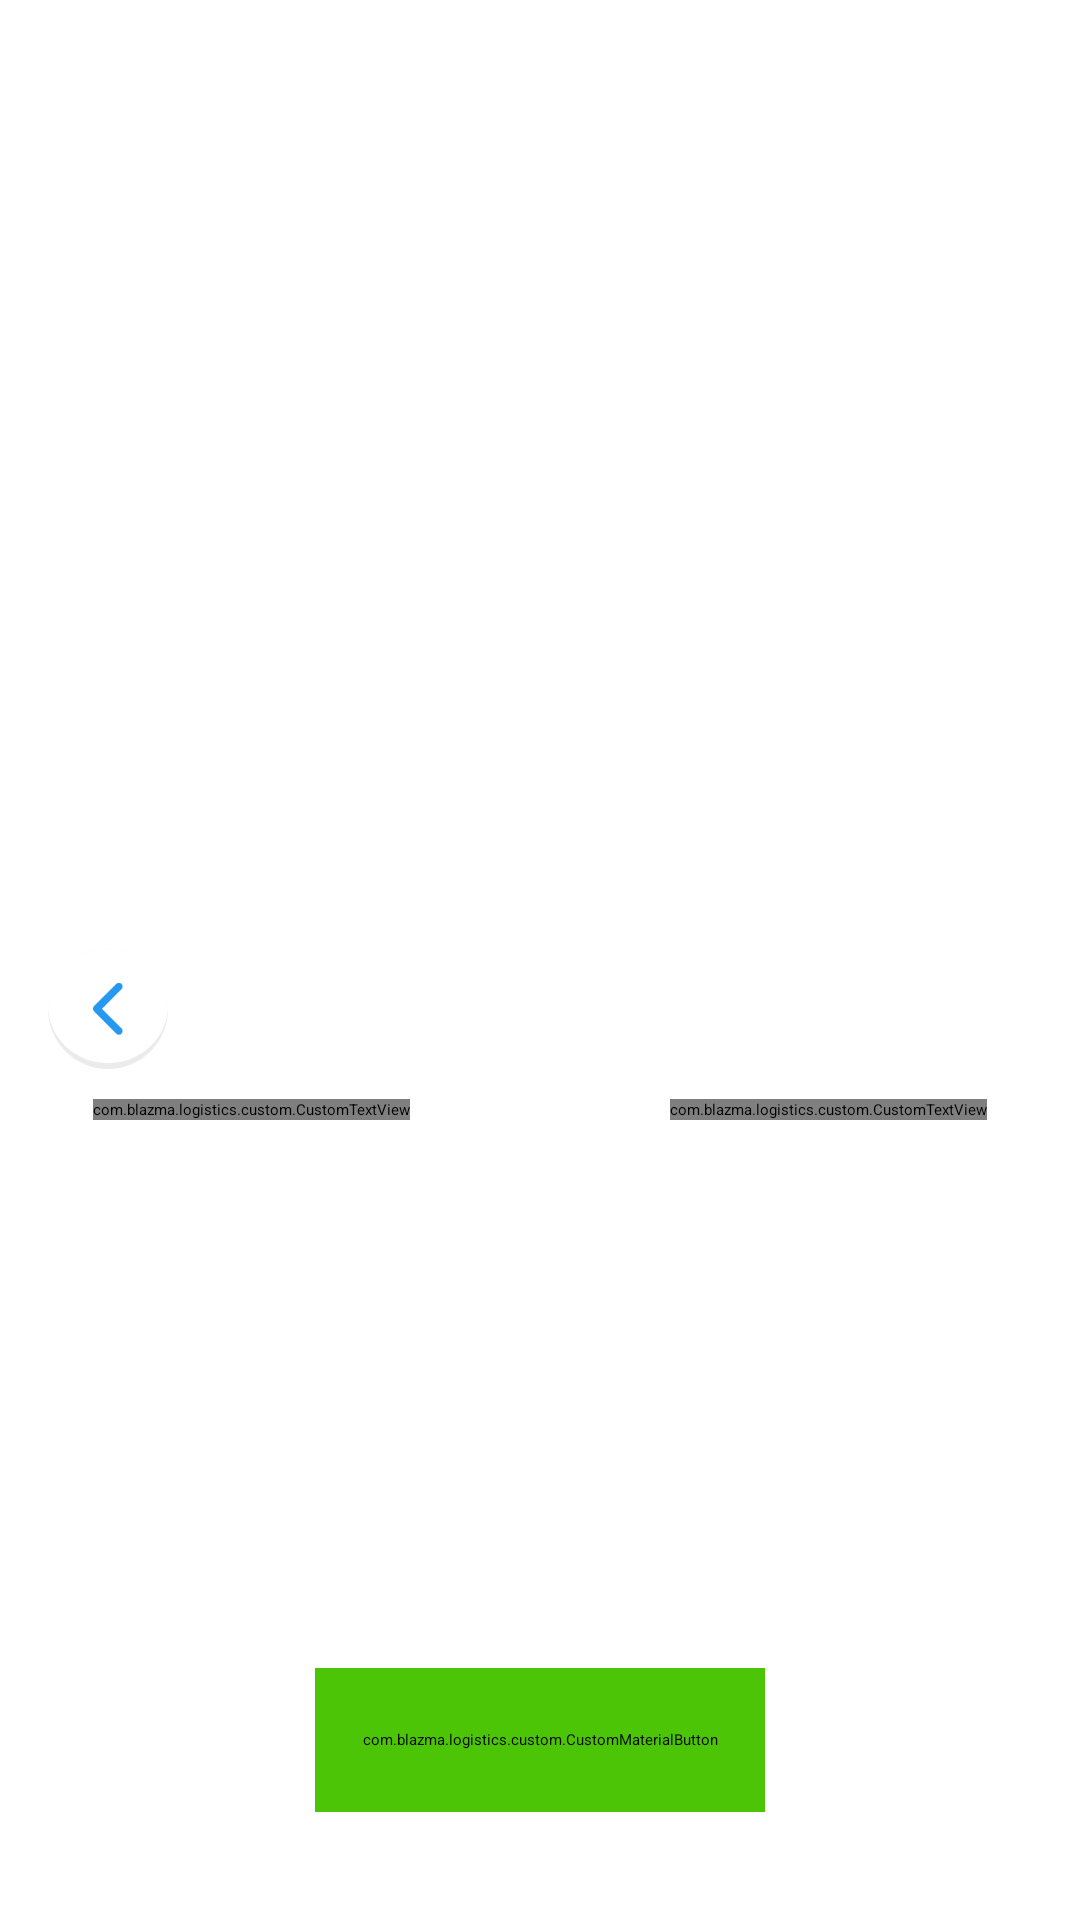

Icons on this 1080 x 1920 Android screen, each with its box as (x1, y1, x2, y2):
left arrow: (93, 983, 123, 1035)
